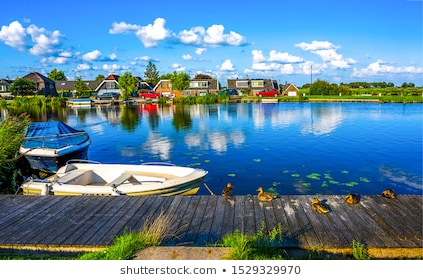duck: (253, 187, 278, 206)
